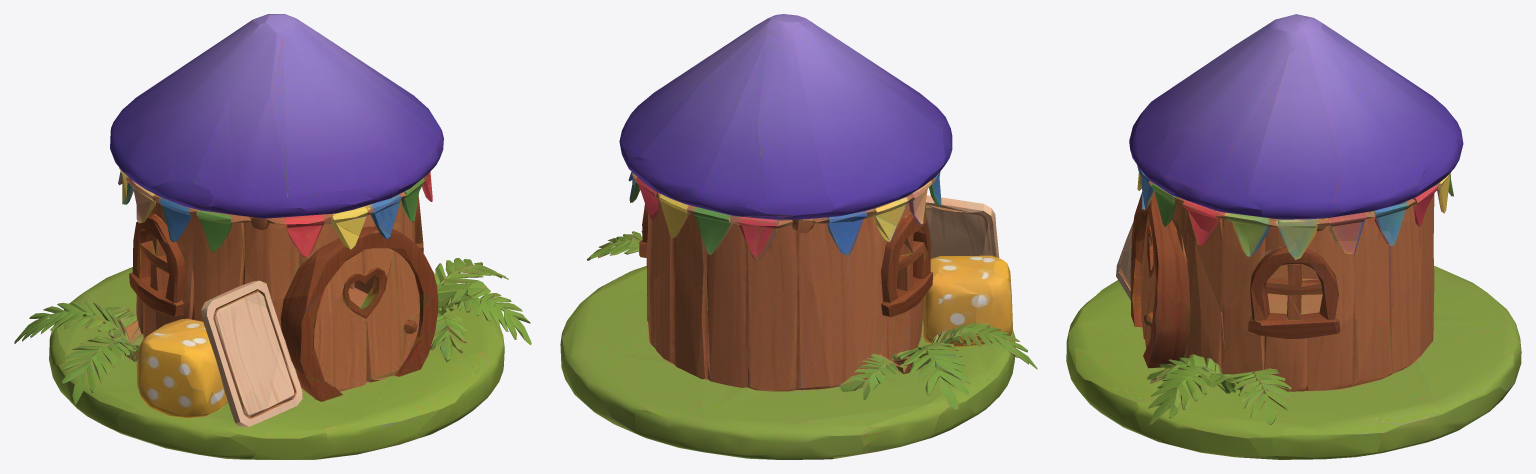
File: b_game_hut.fbx
3 renders of one model, left to right at view 1: azimuth 30°, elevation 25°; view 2: azimuth 150°, elevation 25°; view 3: azimuth 270°, elevation 25°, orthographic.
Visible parts, largest first — view 1: Mesh_0; view 2: Mesh_0; view 3: Mesh_0.
Boxes of the visible parts, left/top/right/bottom form: Mesh_0: left=14, top=14, right=531, bottom=459; Mesh_0: left=560, top=14, right=1037, bottom=459; Mesh_0: left=1066, top=14, right=1521, bottom=459.
Bounding box in the file's own units: 1.9 × 1.44 × 1.7.
1 material, 1 textured.
